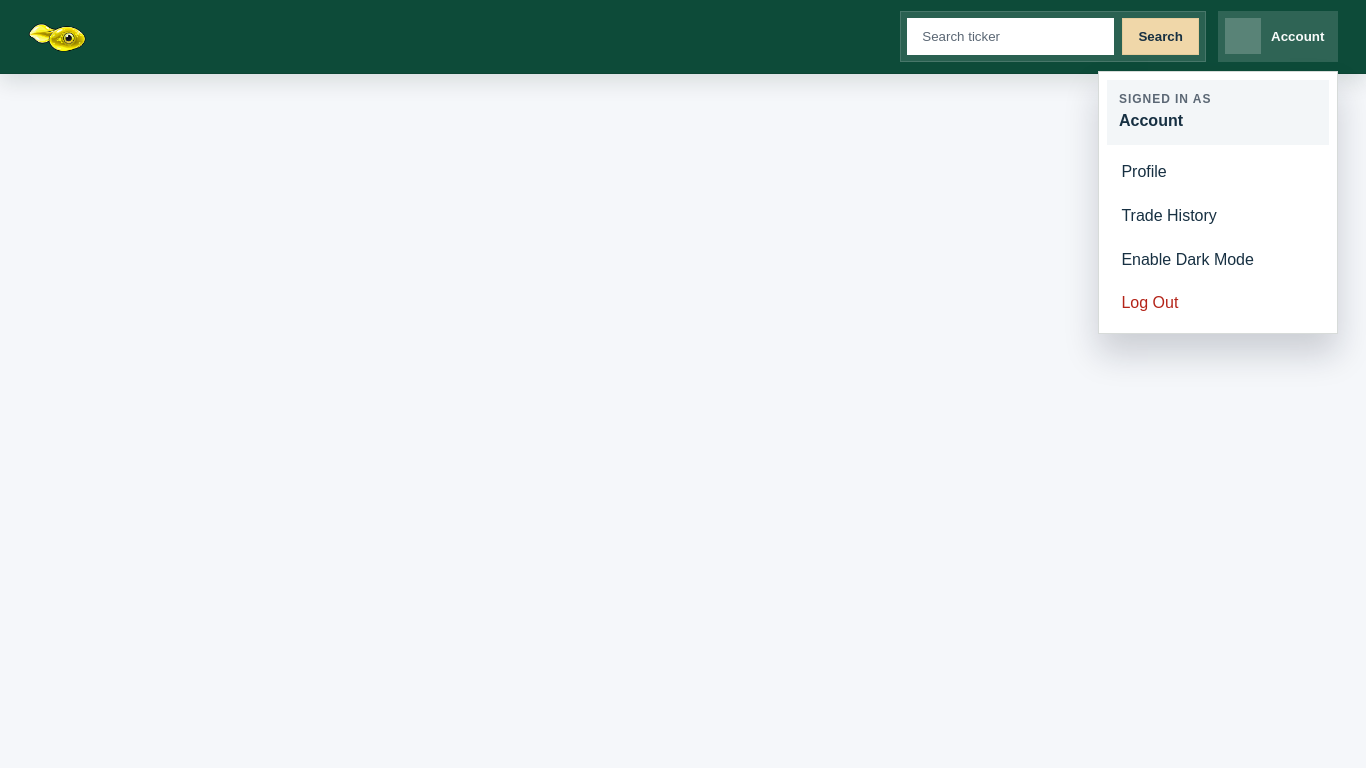
Test: TopNavComponent › offers a text-only theme action and updates its label after toggling
Click the menu item "Enable Dark Mode" at (1218, 260), box top-left (1107, 238), bottom-right (1329, 281)
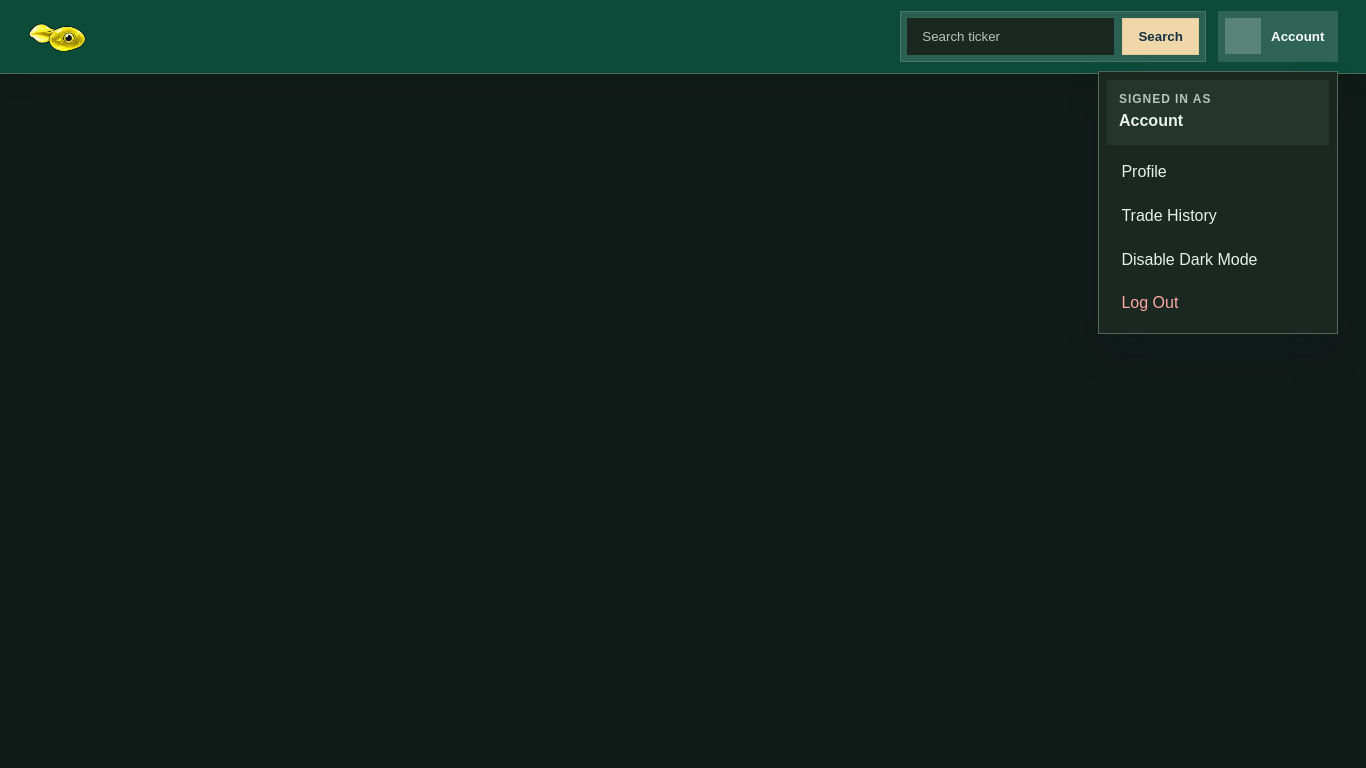
expect the menu item "Disable Dark Mode" is shown: met, box top-left (1107, 238), bottom-right (1329, 281)
